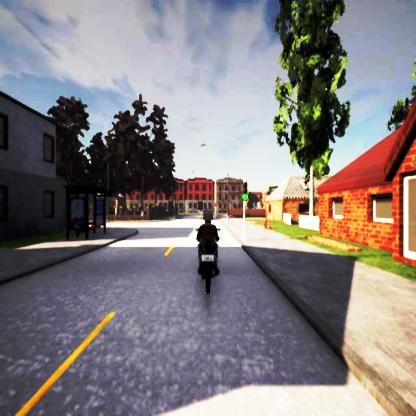motobike: (196, 209, 221, 295)
